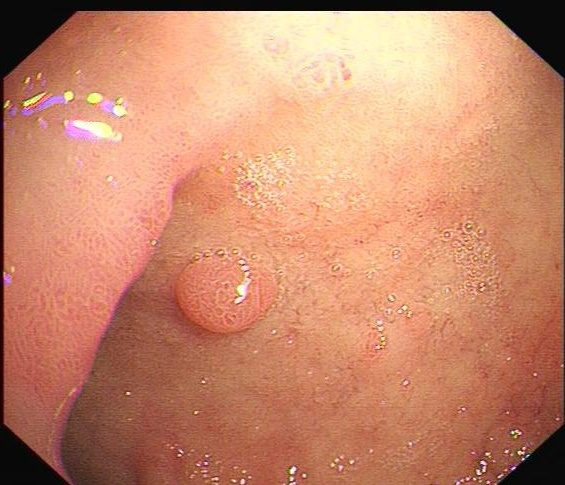Polyp: (177, 249, 280, 335)
